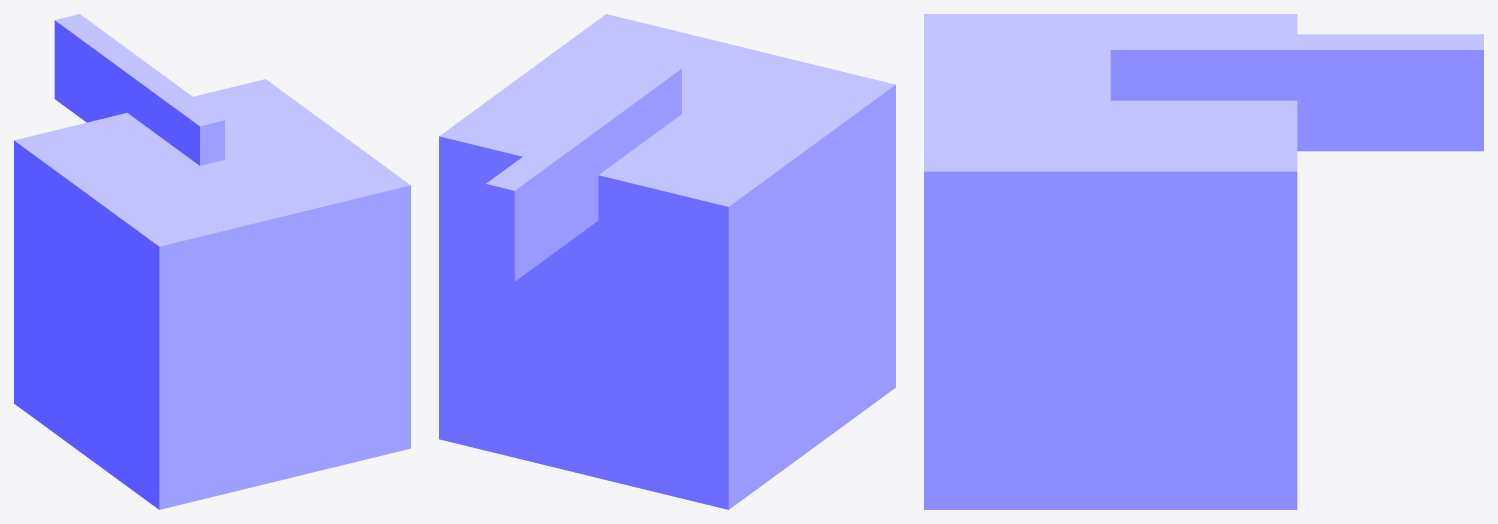
Rendered from shoulder_blue.glb.
3 views of the same model, side by side, from view 1: azimuth 30°, elevation 25°; view 2: azimuth 150°, elevation 25°; view 3: azimuth 270°, elevation 25° (orthographic). The views are drawn at different scales.
Visible parts, largest first — view 1: base, lowerArm; view 2: base, lowerArm; view 3: base, lowerArm.
Boxes of the visible parts, x1,y1,x2,y2 form: base: [14, 79, 410, 509]; lowerArm: [54, 14, 224, 165]; base: [439, 14, 895, 509]; lowerArm: [486, 61, 681, 281]; base: [924, 14, 1297, 509]; lowerArm: [1110, 34, 1483, 151].
Bounding box in the file's own units: 2 × 2.3 × 3.
